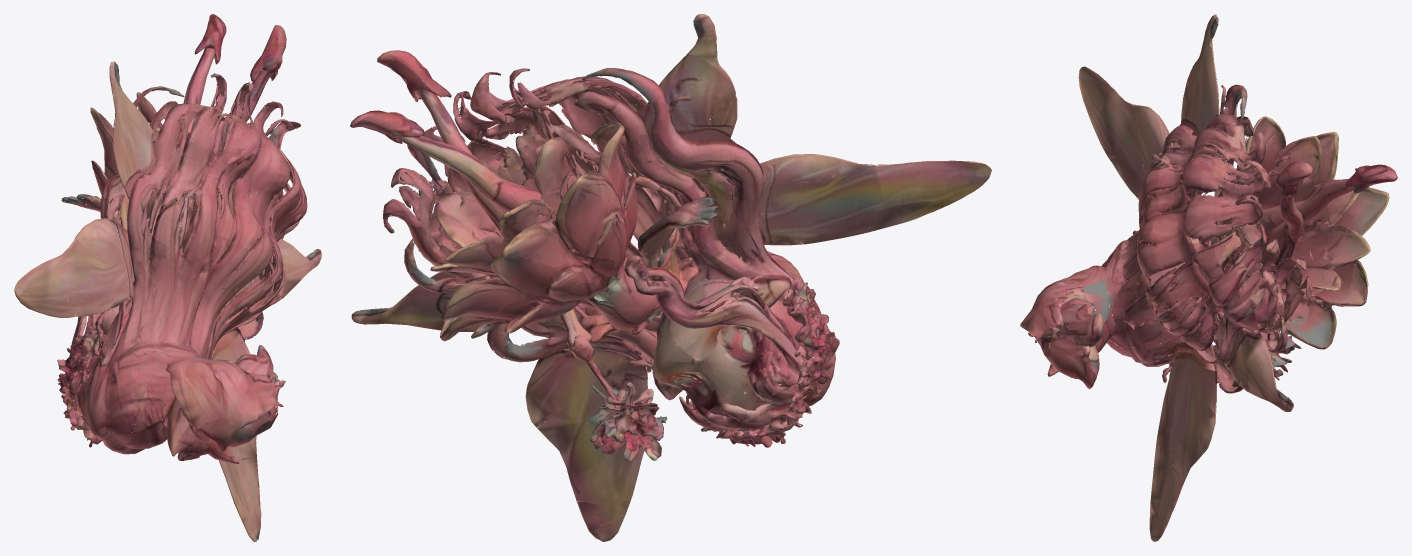
File: roza2.glb
3 renders of one model, left to right at view 1: azimuth 30°, elevation 25°; view 2: azimuth 150°, elevation 25°; view 3: azimuth 270°, elevation 25°, orthographic. The views are drawn at different scales.
Visible parts, largest first — view 1: tripo_node_60991ace-1936-42cc-9bf5-cf258b1228b6; view 2: tripo_node_60991ace-1936-42cc-9bf5-cf258b1228b6; view 3: tripo_node_60991ace-1936-42cc-9bf5-cf258b1228b6.
Part boxes in pixels (box(x1,y1,x2,y2)): tripo_node_60991ace-1936-42cc-9bf5-cf258b1228b6: box(14, 14, 321, 541); tripo_node_60991ace-1936-42cc-9bf5-cf258b1228b6: box(350, 14, 991, 541); tripo_node_60991ace-1936-42cc-9bf5-cf258b1228b6: box(1020, 14, 1397, 541).
Bounding box in the file's own units: 0.9461 × 1.05 × 0.76.
Materials: 1 (1 with a texture image).
